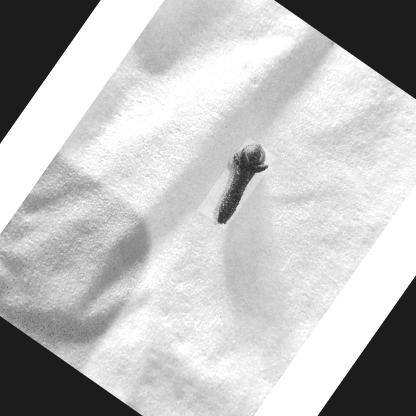baik: (215, 144, 268, 226)
